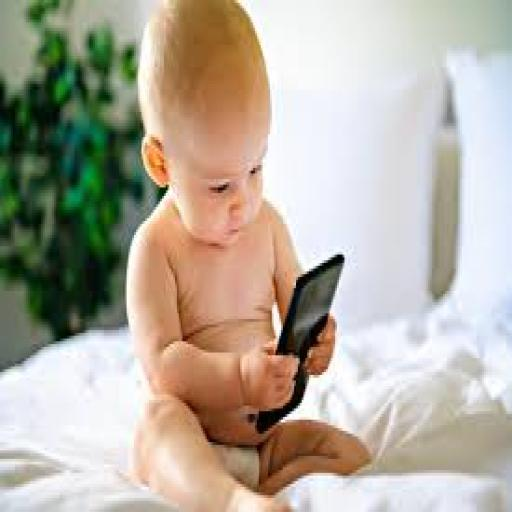phone: (280, 259, 346, 434)
